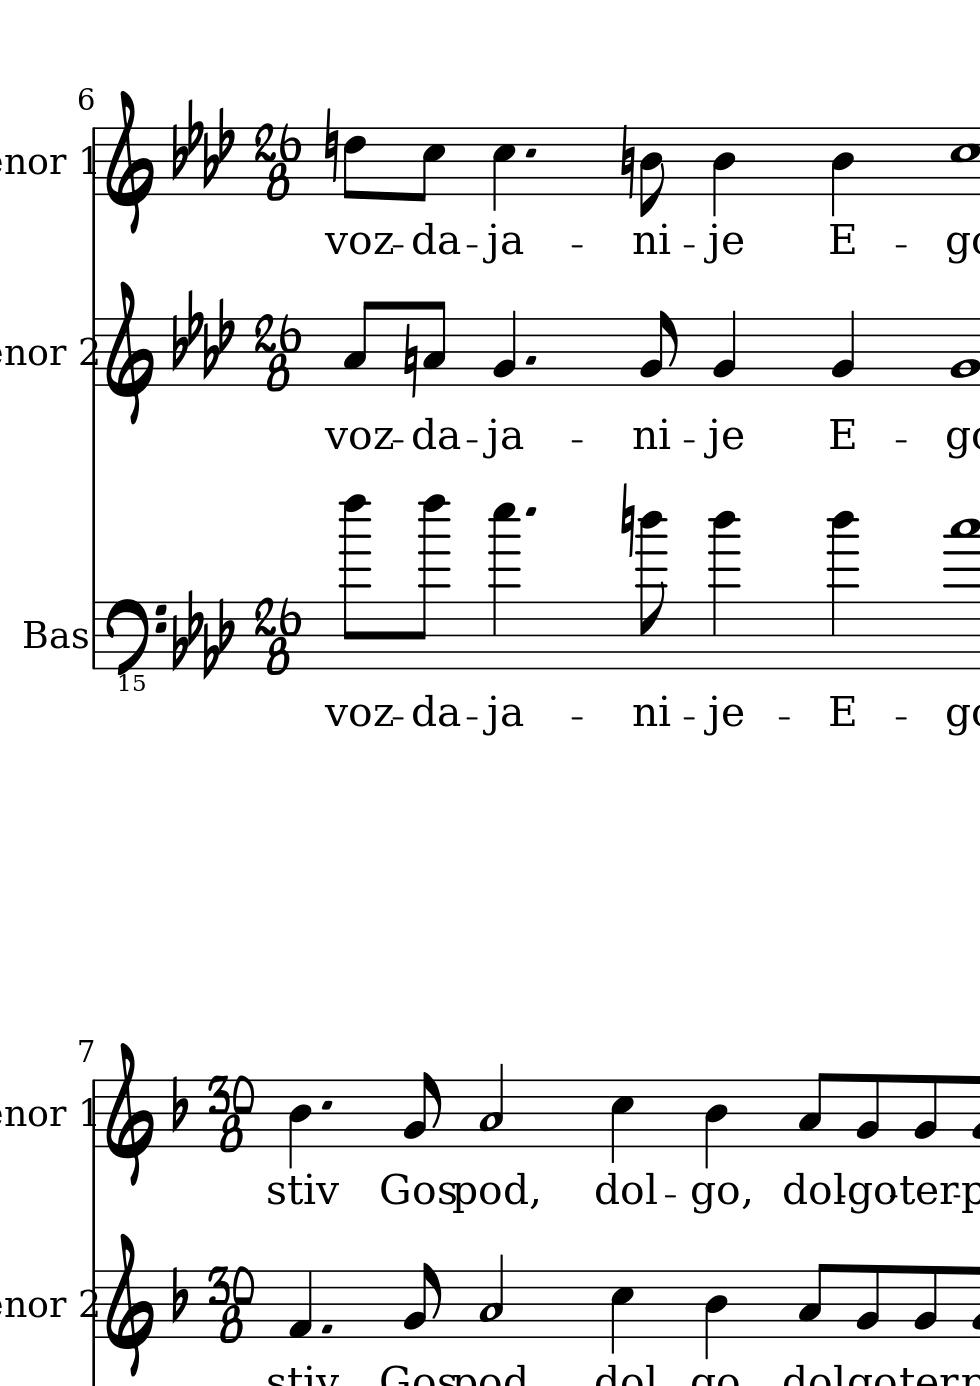0: (230, 1261, 256, 1305), (232, 1074, 256, 1117)
1_5: (949, 125, 978, 197)
2: (250, 121, 279, 164), (253, 594, 279, 636), (255, 313, 278, 354)
2_2: (947, 316, 978, 388)
2_3: (477, 1063, 505, 1147), (477, 1255, 505, 1338)
3: (207, 1073, 231, 1117), (207, 1262, 229, 1305)
4_1: (286, 1268, 313, 1340)
4_2: (711, 308, 737, 387), (491, 308, 517, 388), (830, 309, 856, 387)
4_4: (711, 126, 735, 217), (829, 126, 854, 216), (703, 1078, 728, 1169), (703, 1270, 728, 1359), (287, 1078, 311, 1169)
4_5: (608, 1269, 635, 1356), (490, 126, 517, 214), (608, 1078, 634, 1165)
6: (278, 593, 301, 641), (278, 311, 301, 355), (279, 120, 299, 160), (76, 84, 95, 112)
7: (78, 1037, 95, 1064)
8: (264, 351, 293, 391), (264, 163, 294, 201), (267, 633, 291, 679), (218, 1113, 244, 1153), (218, 1304, 242, 1345)
8_17: (949, 514, 980, 671)
8_18: (637, 510, 669, 672), (708, 509, 739, 672), (827, 507, 858, 670)
8_19: (489, 502, 522, 671)
8_2: (638, 310, 678, 387), (402, 1262, 440, 1339), (402, 1072, 440, 1148), (853, 1072, 880, 1150), (853, 1263, 880, 1340), (912, 1073, 938, 1150), (912, 1264, 938, 1340)
8_20: (408, 492, 449, 673), (339, 491, 373, 670)
8_3: (342, 299, 377, 387), (797, 1261, 832, 1340), (797, 1071, 830, 1150), (422, 299, 447, 388)
8_4: (637, 126, 665, 218)
8_5: (412, 126, 447, 204)
8_6: (342, 126, 367, 201)
A_F: (172, 287, 239, 382), (171, 97, 237, 188), (172, 587, 232, 678)
Bass: (20, 617, 91, 652)
Cclef: (205, 1076, 253, 1156), (208, 1265, 256, 1345), (253, 598, 301, 678)
DLower_Fclef: (105, 596, 171, 694)
Flat: (169, 1265, 190, 1324), (169, 1074, 190, 1133)
Gclef: (105, 279, 155, 426), (104, 87, 154, 233), (104, 1040, 154, 1186), (105, 1231, 154, 1379)
Natural: (321, 106, 339, 183), (401, 324, 419, 400), (617, 481, 635, 557), (619, 120, 635, 199)
Single_barline: (86, 1270, 102, 1339), (86, 317, 101, 387), (87, 602, 101, 669), (88, 1080, 101, 1148), (88, 126, 100, 196)
TimeSig: (255, 312, 301, 393), (256, 120, 299, 203)
dot: (522, 145, 538, 160), (522, 352, 537, 368), (319, 1096, 334, 1112), (319, 1321, 333, 1336)
